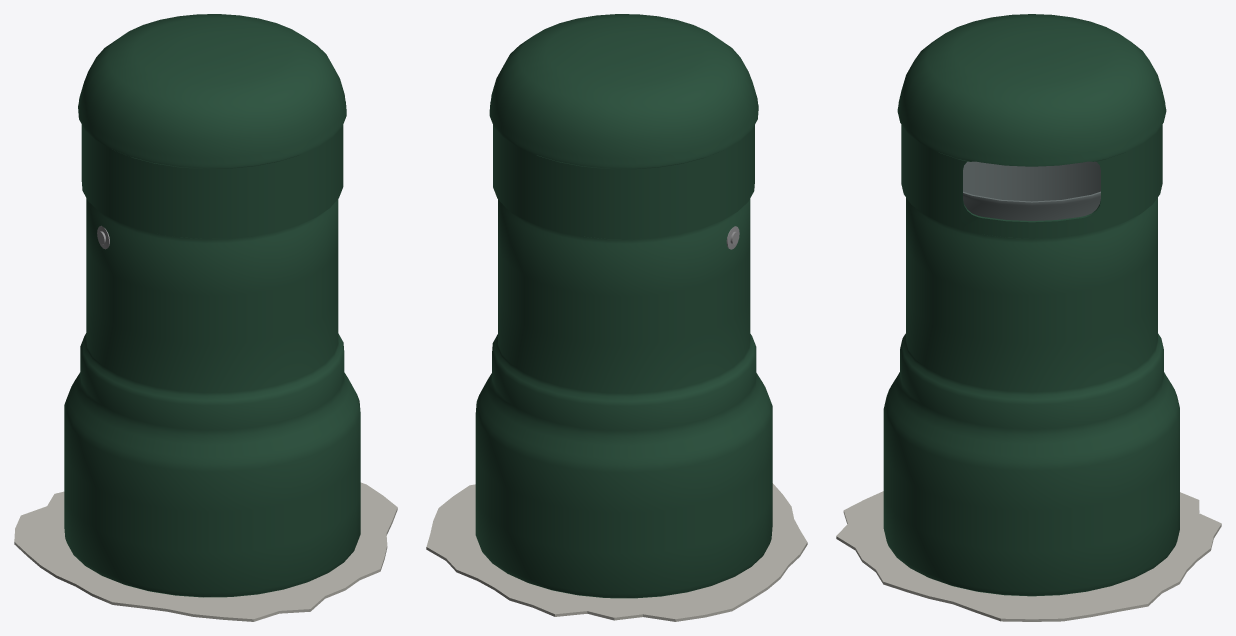
Rendered from K2_hooded_drum_a.glb.
3 views of the same model, side by side, from view 1: azimuth 30°, elevation 25°; view 2: azimuth 150°, elevation 25°; view 3: azimuth 270°, elevation 25° (orthographic).
Visible parts, largest first — view 1: k2_shell, k2_ground_patch; view 2: k2_shell, k2_ground_patch; view 3: k2_shell, k2_ground_patch, k2_liner.
Part boxes in pixels (box(x1,y1,x2,y2)): k2_shell: box(64, 14, 360, 597); k2_ground_patch: box(14, 482, 397, 621); k2_shell: box(475, 14, 772, 598); k2_ground_patch: box(426, 483, 807, 621); k2_shell: box(883, 14, 1179, 596); k2_ground_patch: box(836, 491, 1221, 621); k2_liner: box(963, 161, 1100, 220).
Bounding box in the file's own units: 0.6306 × 0.904 × 0.643.
